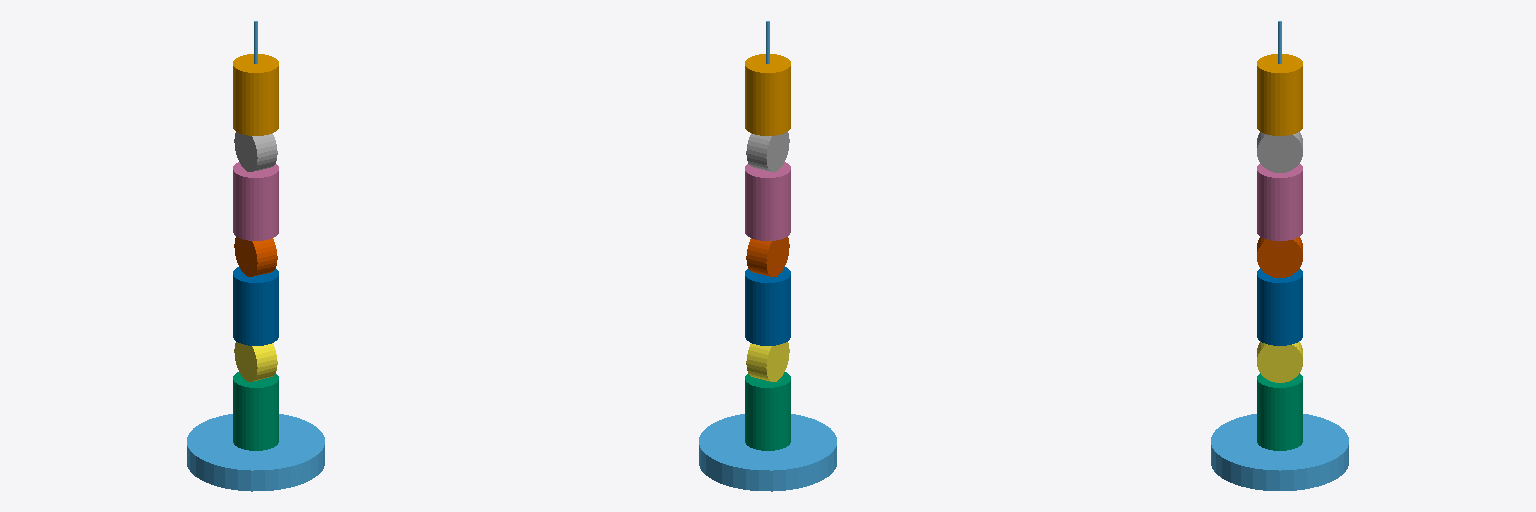
robot.urdf — nLink:
<?xml version="1.0"?>
<!-- =================================================================================== -->
<!-- |    This document was autogenerated by xacro from nlink.urdf.xacro               | -->
<!-- |    EDITING THIS FILE BY HAND IS NOT RECOMMENDED                                 | -->
<!-- =================================================================================== -->
<robot name="nLink">
  <link name="world"/>
  <link name="base">
    <visual>
      <origin rpy="0 0 0" xyz="0 0 0.05"/>
      <geometry>
        <cylinder length="0.1" radius="0.3"/>
      </geometry>
    </visual>
    <collision>
      <origin rpy="0 0 0" xyz="0 0 0.05"/>
      <geometry>
        <cylinder length="0.1" radius="0.3"/>
      </geometry>
    </collision>
    <inertial>
      <origin rpy="0 0 0" xyz="0 0 0.05"/>
      <mass value="1.0"/>
      <inertia ixx="0.0233333333333" ixy="0.0" ixz="0.0" iyy="0.0233333333333" iyz="0.0" izz="0.045"/>
    </inertial>
  </link>
  <link name="link1">
    <visual>
      <origin rpy="0 0 0" xyz="0 0 0.15"/>
      <geometry>
        <cylinder length="0.3" radius="0.1"/>
      </geometry>
    </visual>
    <collision>
      <origin rpy="0 0 0" xyz="0 0 0.15"/>
      <geometry>
        <cylinder length="0.3" radius="0.1"/>
      </geometry>
    </collision>
    <inertial>
      <origin rpy="0 0 0" xyz="0 0 0.15"/>
      <mass value="1.0"/>
      <inertia ixx="0.01" ixy="0.0" ixz="0.0" iyy="0.01" iyz="0.0" izz="0.005"/>
    </inertial>
  </link>
  <link name="link2">
    <visual>
      <origin rpy="0 0 0" xyz="0 0 0.05"/>
      <geometry>
        <cylinder length="0.1" radius="0.1"/>
      </geometry>
    </visual>
    <collision>
      <origin rpy="0 0 0" xyz="0 0 0.05"/>
      <geometry>
        <cylinder length="0.1" radius="0.1"/>
      </geometry>
    </collision>
    <inertial>
      <origin rpy="0 0 0" xyz="0 0 0.05"/>
      <mass value="1.0"/>
      <inertia ixx="0.00333333333333" ixy="0.0" ixz="0.0" iyy="0.00333333333333" iyz="0.0" izz="0.005"/>
    </inertial>
  </link>
  <link name="link3">
    <visual>
      <origin rpy="0 0 0" xyz="0 0 0.15"/>
      <geometry>
        <cylinder length="0.3" radius="0.1"/>
      </geometry>
    </visual>
    <collision>
      <origin rpy="0 0 0" xyz="0 0 0.15"/>
      <geometry>
        <cylinder length="0.3" radius="0.1"/>
      </geometry>
    </collision>
    <inertial>
      <origin rpy="0 0 0" xyz="0 0 0.15"/>
      <mass value="1.0"/>
      <inertia ixx="0.01" ixy="0.0" ixz="0.0" iyy="0.01" iyz="0.0" izz="0.005"/>
    </inertial>
  </link>
  <link name="link4">
    <visual>
      <origin rpy="0 0 0" xyz="0 0 0.05"/>
      <geometry>
        <cylinder length="0.1" radius="0.1"/>
      </geometry>
    </visual>
    <collision>
      <origin rpy="0 0 0" xyz="0 0 0.05"/>
      <geometry>
        <cylinder length="0.1" radius="0.1"/>
      </geometry>
    </collision>
    <inertial>
      <origin rpy="0 0 0" xyz="0 0 0.05"/>
      <mass value="1.0"/>
      <inertia ixx="0.00333333333333" ixy="0.0" ixz="0.0" iyy="0.00333333333333" iyz="0.0" izz="0.005"/>
    </inertial>
  </link>
  <link name="link5">
    <visual>
      <origin rpy="0 0 0" xyz="0 0 0.15"/>
      <geometry>
        <cylinder length="0.3" radius="0.1"/>
      </geometry>
    </visual>
    <collision>
      <origin rpy="0 0 0" xyz="0 0 0.15"/>
      <geometry>
        <cylinder length="0.3" radius="0.1"/>
      </geometry>
    </collision>
    <inertial>
      <origin rpy="0 0 0" xyz="0 0 0.15"/>
      <mass value="1.0"/>
      <inertia ixx="0.01" ixy="0.0" ixz="0.0" iyy="0.01" iyz="0.0" izz="0.005"/>
    </inertial>
  </link>
  <link name="link6">
    <visual>
      <origin rpy="0 0 0" xyz="0 0 0.05"/>
      <geometry>
        <cylinder length="0.1" radius="0.1"/>
      </geometry>
    </visual>
    <collision>
      <origin rpy="0 0 0" xyz="0 0 0.05"/>
      <geometry>
        <cylinder length="0.1" radius="0.1"/>
      </geometry>
    </collision>
    <inertial>
      <origin rpy="0 0 0" xyz="0 0 0.05"/>
      <mass value="1.0"/>
      <inertia ixx="0.00333333333333" ixy="0.0" ixz="0.0" iyy="0.00333333333333" iyz="0.0" izz="0.005"/>
    </inertial>
  </link>
  <link name="link7">
    <visual>
      <origin rpy="0 0 0" xyz="0 0 0.15"/>
      <geometry>
        <cylinder length="0.3" radius="0.1"/>
      </geometry>
    </visual>
    <collision>
      <origin rpy="0 0 0" xyz="0 0 0.15"/>
      <geometry>
        <cylinder length="0.3" radius="0.1"/>
      </geometry>
    </collision>
    <inertial>
      <origin rpy="0 0 0" xyz="0 0 0.15"/>
      <mass value="1.0"/>
      <inertia ixx="0.01" ixy="0.0" ixz="0.0" iyy="0.01" iyz="0.0" izz="0.005"/>
    </inertial>
  </link>
  <link name="linkee">
    <visual>
      <origin rpy="0 0 0" xyz="0 0 0.15"/>
      <geometry>
        <cylinder length="0.3" radius="0.01"/>
      </geometry>
    </visual>
    <collision>
      <origin rpy="0 0 0" xyz="0 0 0.15"/>
      <geometry>
        <cylinder length="0.3" radius="0.01"/>
      </geometry>
    </collision>
    <inertial>
      <origin rpy="0 0 0" xyz="0 0 0.15"/>
      <mass value="1.0"/>
      <inertia ixx="0.007525" ixy="0.0" ixz="0.0" iyy="0.007525" iyz="0.0" izz="5e-05"/>
    </inertial>
  </link>
  <joint name="jointworldBase" type="fixed">
    <safety_controller k_position="100.0" k_velocity="40.0" soft_lower_limit="-2.8973" soft_upper_limit="2.8973"/>
    <origin rpy="0 0 0" xyz="0 0 0.0"/>
    <parent link="world"/>
    <child link="base"/>
    <axis xyz="1 0 0"/>
    <limit effort="87" lower="-1.57079632679" upper="1.57079632679" velocity="2.0"/>
    <dynamics damping="0.0" friction="0.0"/>
  </joint>
  <joint name="jointjoint0" type="revolute">
    <safety_controller k_position="100.0" k_velocity="40.0" soft_lower_limit="-2.8973" soft_upper_limit="2.8973"/>
    <origin rpy="0 0 0" xyz="0 0 0.1"/>
    <parent link="base"/>
    <child link="link1"/>
    <axis xyz="0 0 1"/>
    <limit effort="87" lower="-1.57079632679" upper="1.57079632679" velocity="2.0"/>
    <dynamics damping="0.0" friction="0.0"/>
  </joint>
  <joint name="jointjoint1" type="revolute">
    <safety_controller k_position="100.0" k_velocity="40.0" soft_lower_limit="-2.8973" soft_upper_limit="2.8973"/>
    <origin rpy="0 1.57079632679 0" xyz="-0.05 0 0.40"/>
    <parent link="link1"/>
    <child link="link2"/>
    <axis xyz="0 0 1"/>
    <limit effort="87" lower="-1.57079632679" upper="1.57079632679" velocity="2.0"/>
    <dynamics damping="0.0" friction="0.0"/>
  </joint>
  <joint name="jointjoint2" type="revolute">
    <safety_controller k_position="100.0" k_velocity="40.0" soft_lower_limit="-2.8973" soft_upper_limit="2.8973"/>
    <origin rpy="0 -1.57079632679 0" xyz="-0.10 0 0.05"/>
    <parent link="link2"/>
    <child link="link3"/>
    <axis xyz="0 0 1"/>
    <limit effort="87" lower="-1.57079632679" upper="1.57079632679" velocity="2.0"/>
    <dynamics damping="0.0" friction="0.0"/>
  </joint>
  <joint name="jointjoint3" type="revolute">
    <safety_controller k_position="100.0" k_velocity="40.0" soft_lower_limit="-2.8973" soft_upper_limit="2.8973"/>
    <origin rpy="0 1.57079632679 0" xyz="-0.05 0 0.40"/>
    <parent link="link3"/>
    <child link="link4"/>
    <axis xyz="0 0 1"/>
    <limit effort="87" lower="-1.57079632679" upper="1.57079632679" velocity="2.0"/>
    <dynamics damping="0.0" friction="0.0"/>
  </joint>
  <joint name="jointjoint4" type="revolute">
    <safety_controller k_position="100.0" k_velocity="40.0" soft_lower_limit="-2.8973" soft_upper_limit="2.8973"/>
    <origin rpy="0 -1.57079632679 0" xyz="-0.10 0 0.05"/>
    <parent link="link4"/>
    <child link="link5"/>
    <axis xyz="0 0 1"/>
    <limit effort="87" lower="-1.57079632679" upper="1.57079632679" velocity="2.0"/>
    <dynamics damping="0.0" friction="0.0"/>
  </joint>
  <joint name="jointjoint5" type="revolute">
    <safety_controller k_position="100.0" k_velocity="40.0" soft_lower_limit="-2.8973" soft_upper_limit="2.8973"/>
    <origin rpy="0 1.57079632679 0" xyz="-0.05 0 0.40"/>
    <parent link="link5"/>
    <child link="link6"/>
    <axis xyz="0 0 1"/>
    <limit effort="87" lower="-1.57079632679" upper="1.57079632679" velocity="2.0"/>
    <dynamics damping="0.0" friction="0.0"/>
  </joint>
  <joint name="jointjoint6" type="revolute">
    <safety_controller k_position="100.0" k_velocity="40.0" soft_lower_limit="-2.8973" soft_upper_limit="2.8973"/>
    <origin rpy="0 -1.57079632679 0" xyz="-0.10 0 0.05"/>
    <parent link="link6"/>
    <child link="link7"/>
    <axis xyz="0 0 1"/>
    <limit effort="87" lower="-1.57079632679" upper="1.57079632679" velocity="2.0"/>
    <dynamics damping="0.0" friction="0.0"/>
  </joint>
  <joint name="jointjointee" type="fixed">
    <safety_controller k_position="100.0" k_velocity="40.0" soft_lower_limit="-2.8973" soft_upper_limit="2.8973"/>
    <origin rpy="0 0 0" xyz="-0.00 0 0.20"/>
    <parent link="link7"/>
    <child link="linkee"/>
    <axis xyz="0 0 1"/>
    <limit effort="87" lower="-1.57079632679" upper="1.57079632679" velocity="2.0"/>
    <dynamics damping="0.0" friction="0.0"/>
  </joint>
</robot>


--- Facts derived from the render (not from the file) ---
3 views of the same robot in one strip: view 1: azimuth 30°, elevation 25°; view 2: azimuth 150°, elevation 25°; view 3: azimuth 270°, elevation 25° (orthographic).
Robot: nLink — 10 links, 9 joints (7 revolute, 2 fixed); root link world; default pose: every joint at zero.
Links seen in each view (by area): view 1: base, link7, link5, link3, link1, link2, link6, link4; view 2: base, link7, link5, link3, link1, link2, link6, link4; view 3: base, link7, link5, link1, link3, link2, link6, link4.
Boxes of the visible links, x1,y1,x2,y2 form: base: (187, 414, 324, 491); link7: (233, 54, 278, 135); link5: (233, 162, 278, 240); link3: (233, 267, 278, 345); link1: (233, 372, 278, 450); link2: (234, 342, 277, 381); link6: (234, 132, 277, 171); link4: (234, 237, 277, 276); base: (699, 414, 836, 491); link7: (745, 54, 790, 135); link5: (745, 162, 790, 240); link3: (745, 267, 790, 345); link1: (745, 372, 790, 450); link2: (746, 342, 789, 381); link6: (746, 132, 789, 171); link4: (746, 237, 789, 276); base: (1211, 414, 1348, 490); link7: (1257, 54, 1302, 135); link5: (1257, 164, 1302, 240); link1: (1257, 373, 1302, 450); link3: (1257, 268, 1302, 345); link2: (1257, 341, 1302, 382); link6: (1257, 132, 1302, 172); link4: (1257, 237, 1302, 277).
Size in the robot's own frame: 0.6 by 0.6 by 2.1 metres.
Geometry: primitives only (box / cylinder / sphere), no mesh files.